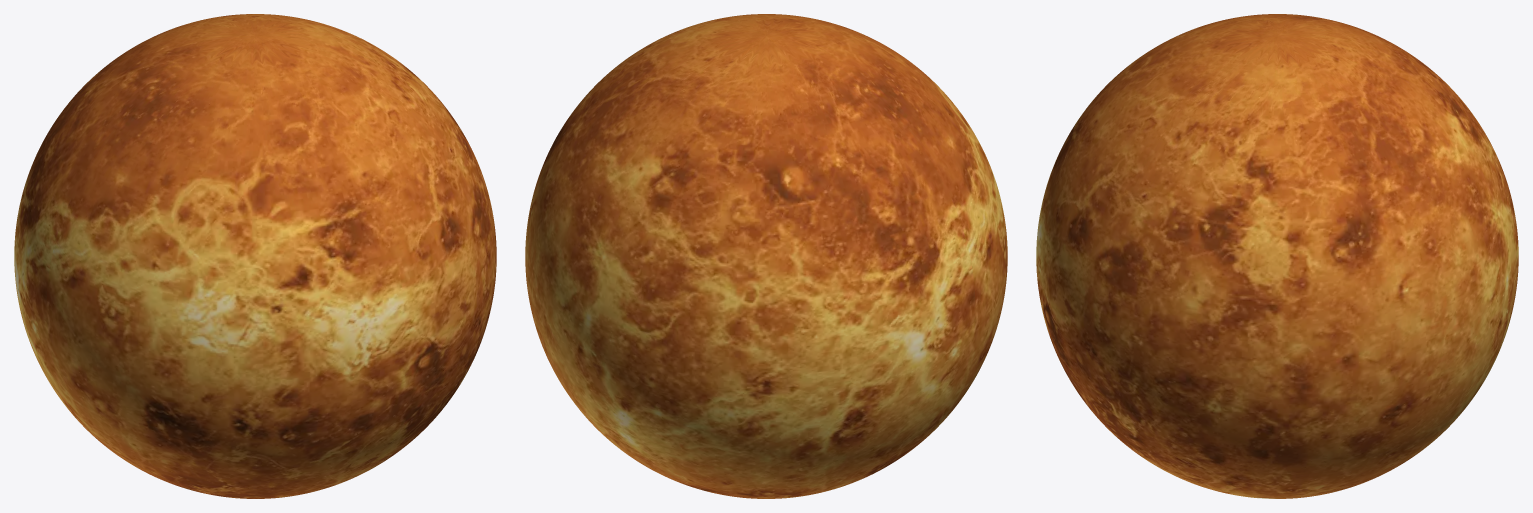
Rendered from venus_compressed.glb.
3 views of the same model, side by side, from view 1: azimuth 30°, elevation 25°; view 2: azimuth 150°, elevation 25°; view 3: azimuth 270°, elevation 25° (orthographic).
Visible parts, largest first — view 1: Object_4; view 2: Object_4; view 3: Object_4.
Boxes of the visible parts, bbox=[...] form: Object_4: bbox=[14, 14, 496, 498]; Object_4: bbox=[525, 14, 1007, 498]; Object_4: bbox=[1036, 14, 1518, 498].
Bounding box in the file's own units: 5.2 × 5.25 × 5.2.
Materials: 1 (1 with a texture image).
